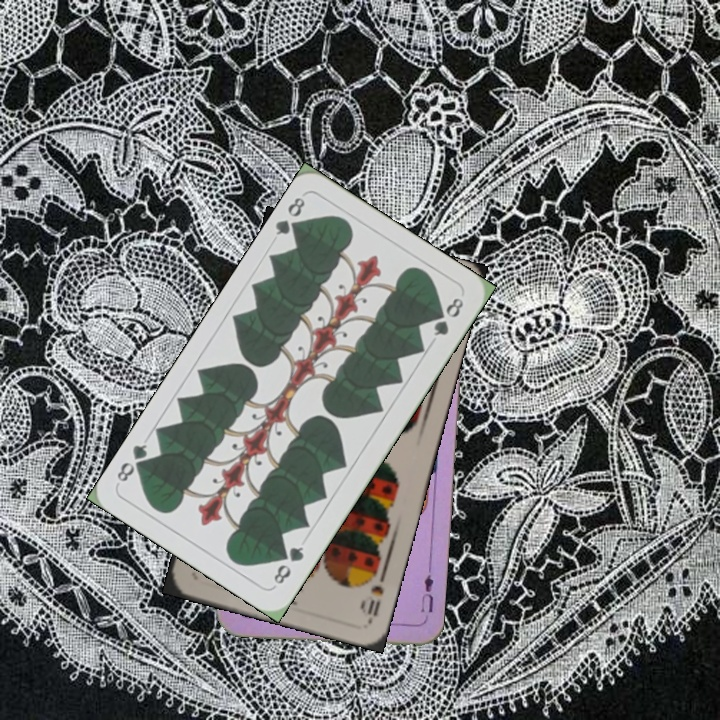EU: (416, 565, 436, 624)
G8: (269, 542, 307, 587), (271, 193, 308, 239)
S10: (357, 563, 390, 623)
